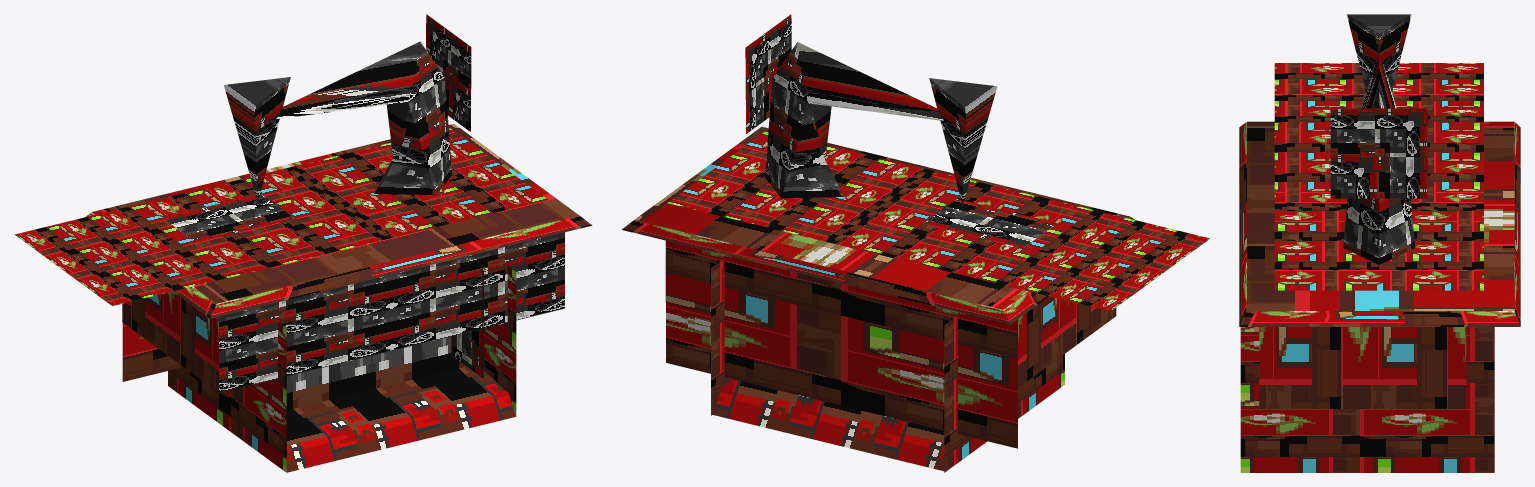
3 views of the same model, side by side, from view 1: azimuth 30°, elevation 25°; view 2: azimuth 150°, elevation 25°; view 3: azimuth 270°, elevation 25° (orthographic). The views are drawn at different scales.
Parts seen in each view (by area): view 1: 3928kg3_gs20; view 2: 3928kg3_gs20; view 3: 3928kg3_gs20.
Part boxes in pixels (x1,y1,x2,y2): 3928kg3_gs20: (14, 14, 592, 472); 3928kg3_gs20: (622, 14, 1210, 472); 3928kg3_gs20: (1239, 14, 1520, 472).
Size of the model in its own units: 1.86 by 1.3 by 0.9121.
Materials: 2 (2 with a texture image).
